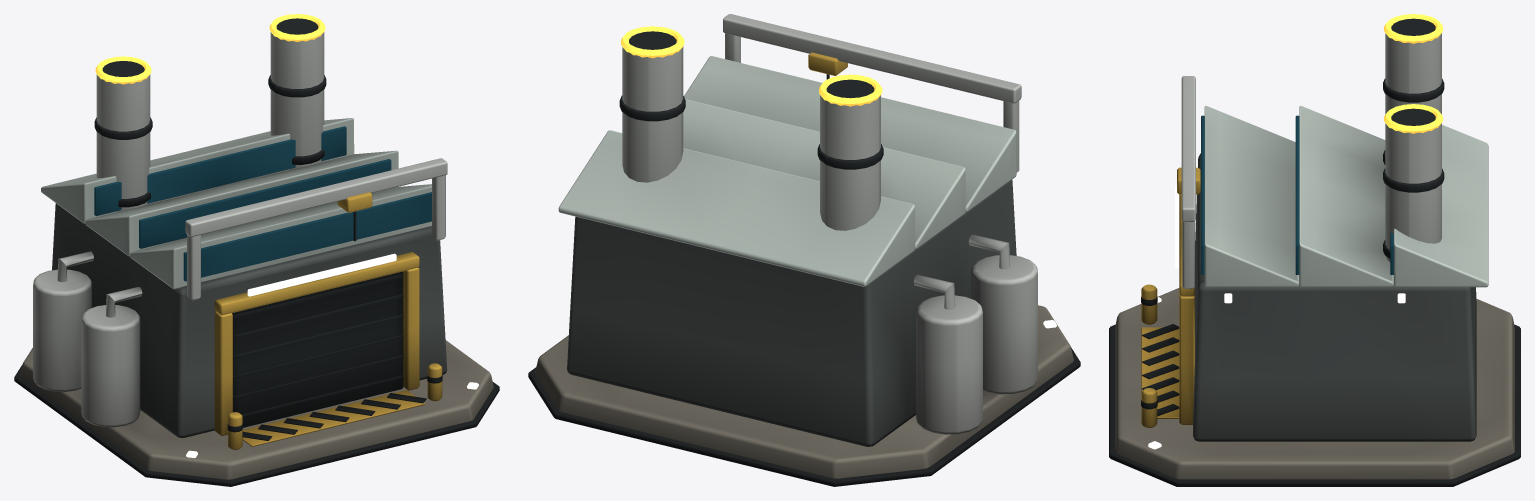
The model's file is foundry.glb.
3 views of the same model, side by side, from view 1: azimuth 30°, elevation 25°; view 2: azimuth 150°, elevation 25°; view 3: azimuth 270°, elevation 25° (orthographic). The views are drawn at different scales.
Visible parts, largest first — view 1: Steel.010, Gear.008, Hall.001, Skylights, Foundation.002, Roof, Hazard.002, Trim.002, Furnace, Lights.008; view 2: Hall.001, Roof, Steel.010, Foundation.002, Trim.002, Gear.008, Furnace, Hazard.002; view 3: Hall.001, Roof, Foundation.002, Steel.010, Hazard.002, Trim.002, Gear.008, Furnace, Skylights.
Boxes of the visible parts, <box> form: Steel.010: <box>33,32,447,427</box>; Gear.008: <box>94,18,442,440</box>; Hall.001: <box>52,203,447,437</box>; Skylights: <box>94,126,431,281</box>; Foundation.002: <box>20,340,493,479</box>; Roof: <box>41,118,431,289</box>; Hazard.002: <box>214,192,442,449</box>; Trim.002: <box>14,364,499,486</box>; Furnace: <box>95,14,325,84</box>; Lights.008: <box>247,253,396,296</box>; Hall.001: <box>567,180,1016,446</box>; Roof: <box>558,56,1016,286</box>; Steel.010: <box>622,14,1037,434</box>; Foundation.002: <box>535,305,1073,478</box>; Trim.002: <box>528,347,1080,486</box>; Gear.008: <box>619,31,883,169</box>; Furnace: <box>621,26,882,106</box>; Hazard.002: <box>808,52,847,75</box>; Hall.001: <box>1193,153,1476,441</box>; Roof: <box>1204,105,1488,287</box>; Foundation.002: <box>1115,288,1514,479</box>; Steel.010: <box>1181,33,1441,288</box>; Hazard.002: <box>1141,167,1200,427</box>; Trim.002: <box>1109,324,1520,486</box>; Gear.008: <box>1141,18,1444,416</box>; Furnace: <box>1384,14,1442,133</box>; Skylights: <box>1201,115,1393,274</box>.
Bounding box in the file's own units: 5.66 × 4.54 × 5.22.
